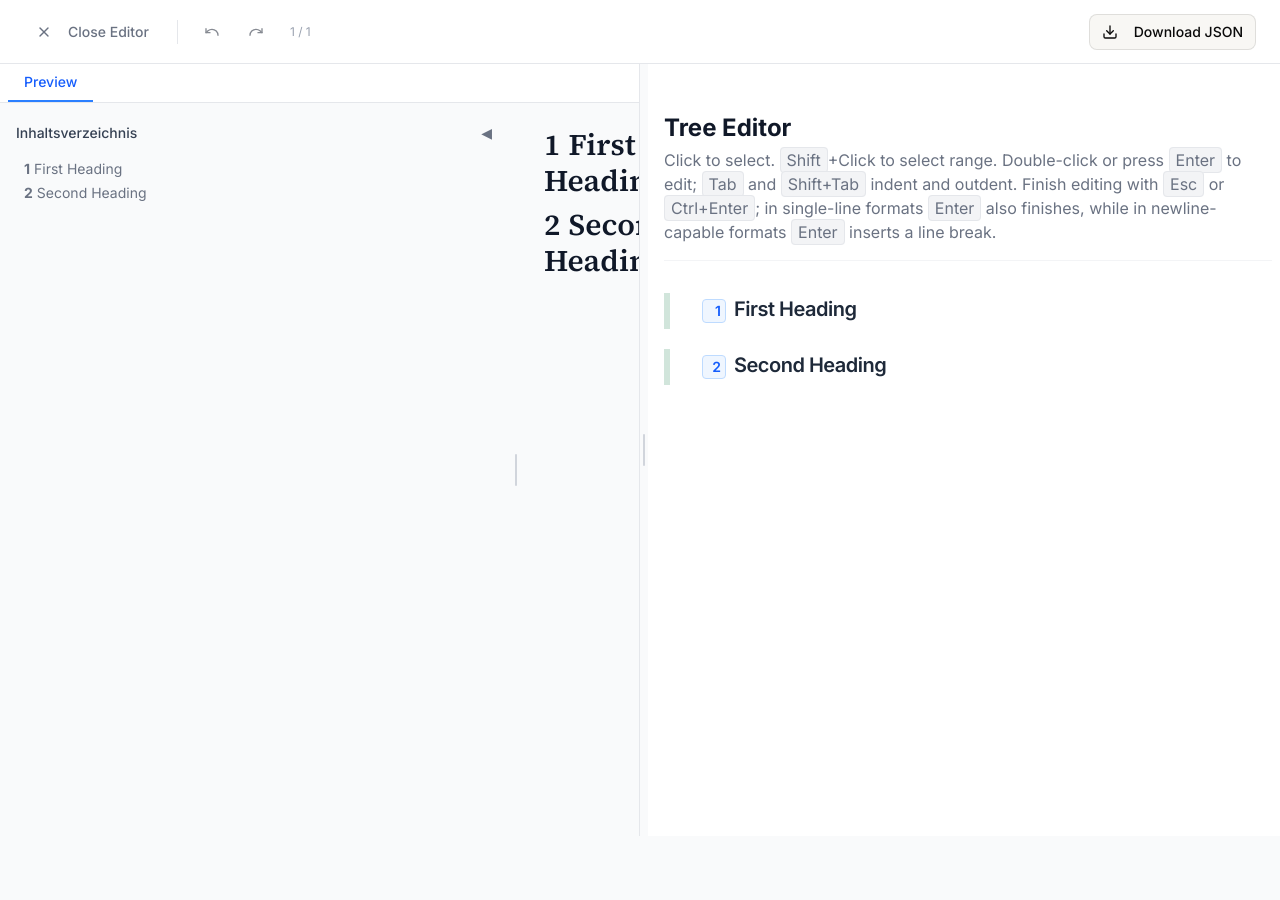
Test case: TreeEditor keyboard shortcuts › type change shortcuts with a node selected › H key changes a content node to heading
Click the heading "First Heading" at {"x": 795, "y": 309}, box x1=734 y1=297 x2=856 y2=321
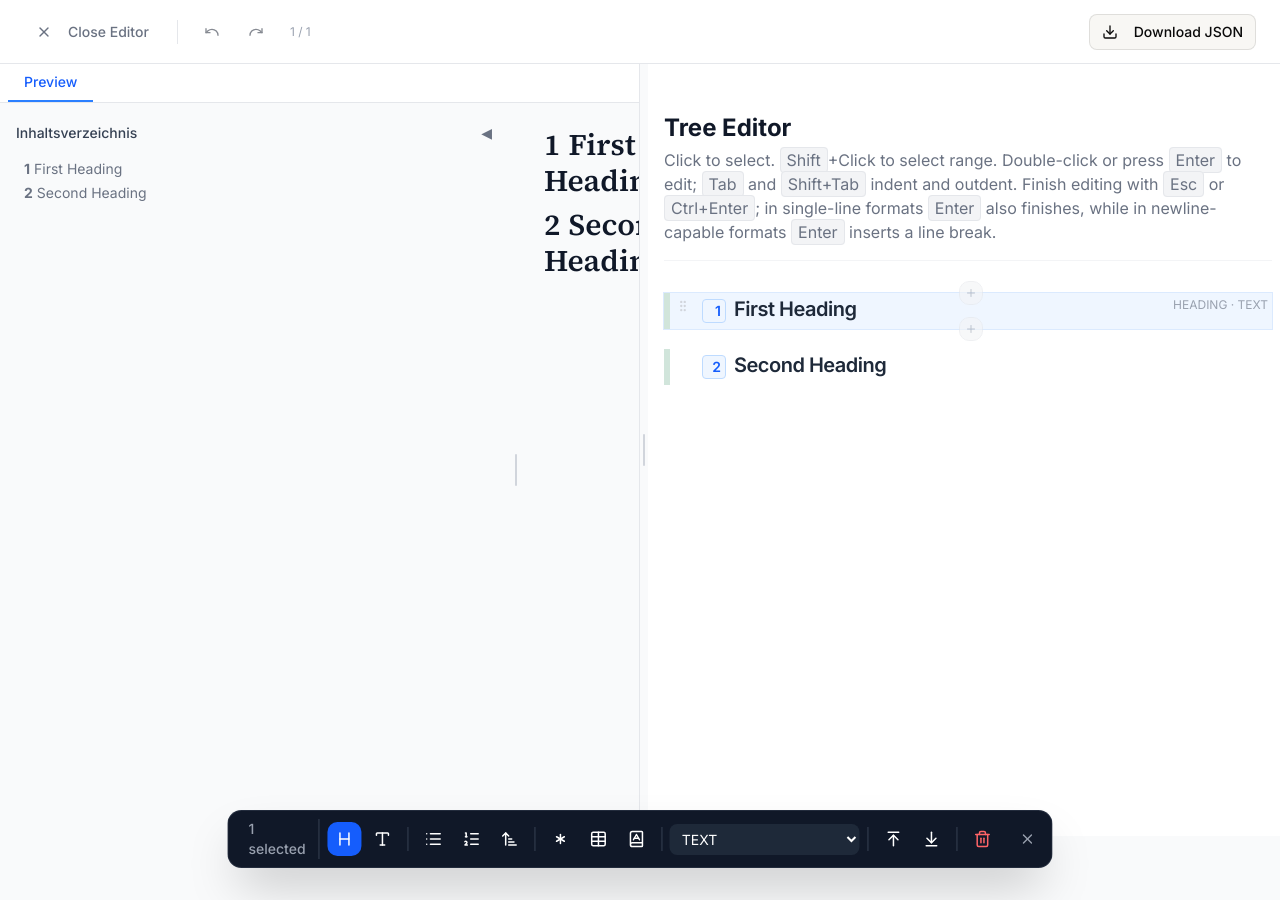
Press t in the element with test id "tree-editor-pane", box x1=648 y1=64 x2=1279 y2=836
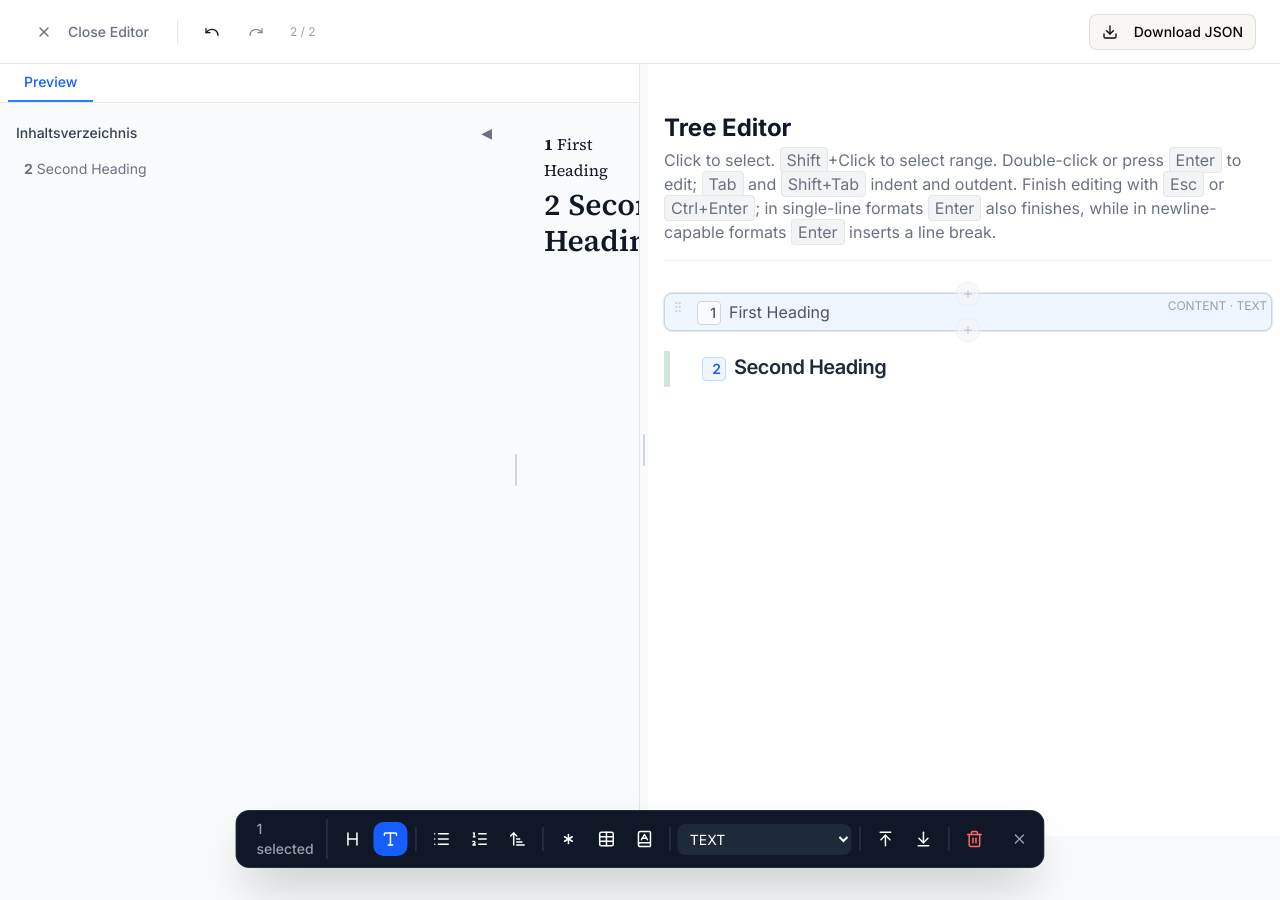
Press h in the element with test id "tree-editor-pane", box x1=648 y1=64 x2=1279 y2=836
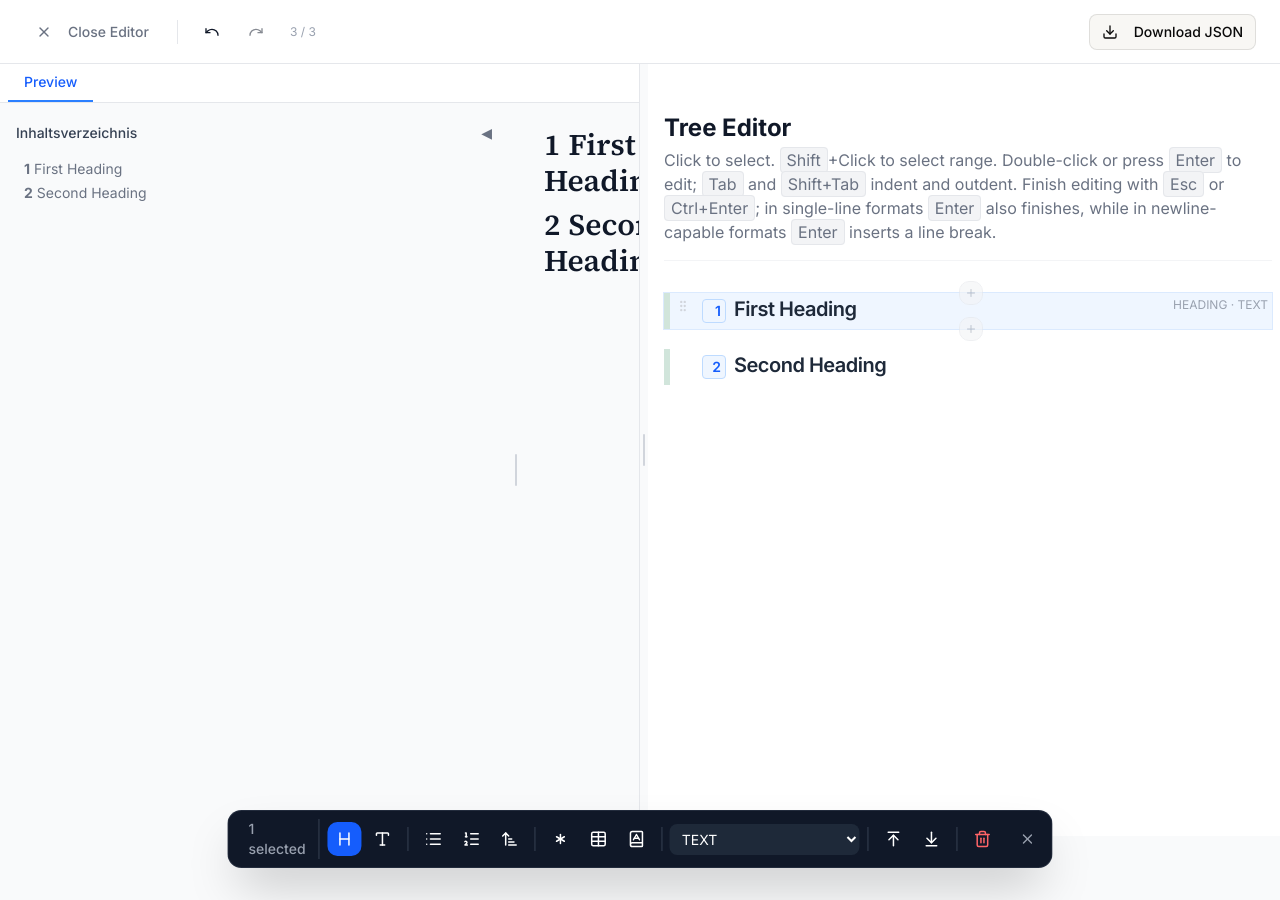
Now the heading "First Heading" is shown, box x1=734 y1=297 x2=856 y2=321
